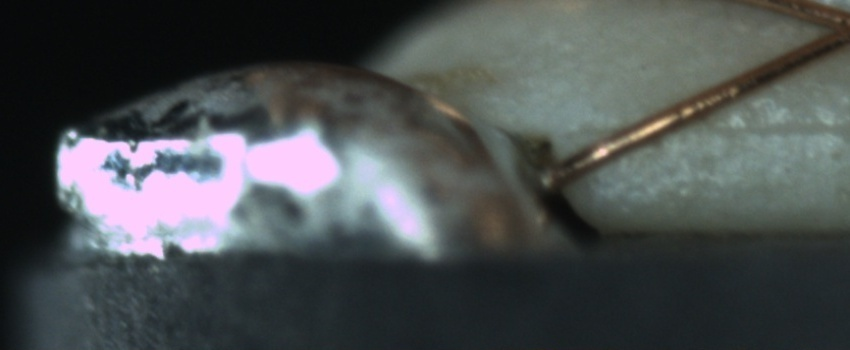CL: (799, 2, 850, 60)
DL: (679, 95, 846, 160)
